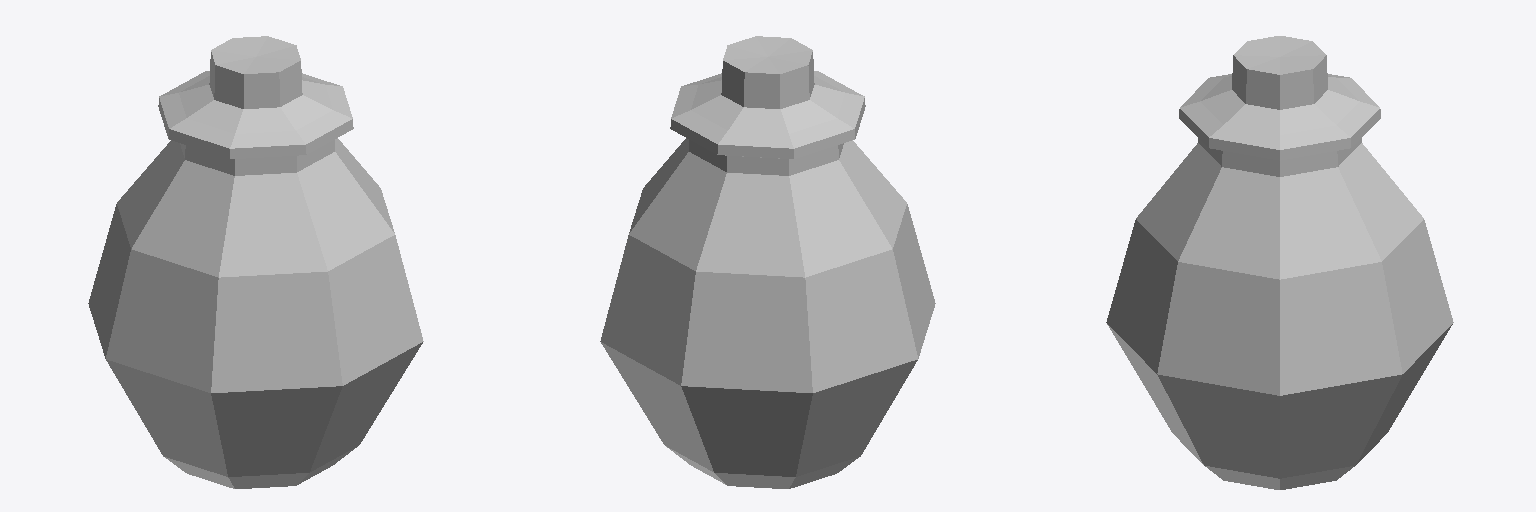
The model's file is BG_JARRE.obj.
3 renders of one model, left to right at view 1: azimuth 30°, elevation 25°; view 2: azimuth 150°, elevation 25°; view 3: azimuth 270°, elevation 25°, orthographic.
Visible parts, largest first — view 1: Jarre; view 2: Jarre; view 3: Jarre.
Boxes of the visible parts, x1,y1,x2,y2 form: Jarre: [88, 36, 423, 488]; Jarre: [600, 36, 935, 488]; Jarre: [1106, 36, 1453, 489].
Bounding box in the file's own units: 106 × 135 × 106.